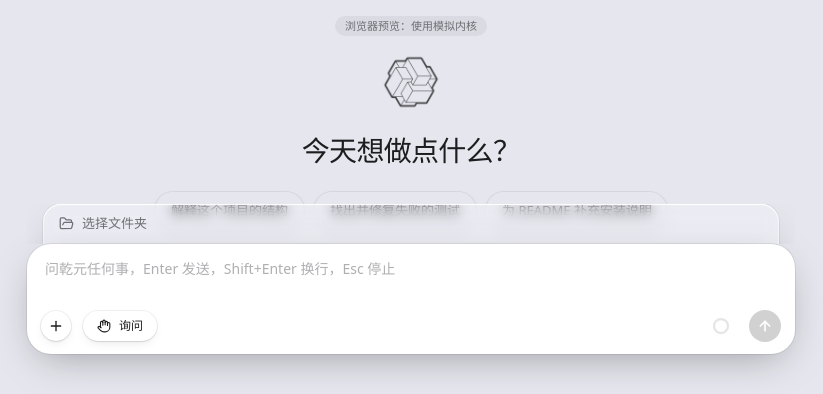
Test: 对话区（mock 事件流） › 输入框里按 Esc 停止；停止进行中按钮禁用，不重复发 abort
In the text box named "输入消息": (411, 280) [41,258,781,302], type "长任务"
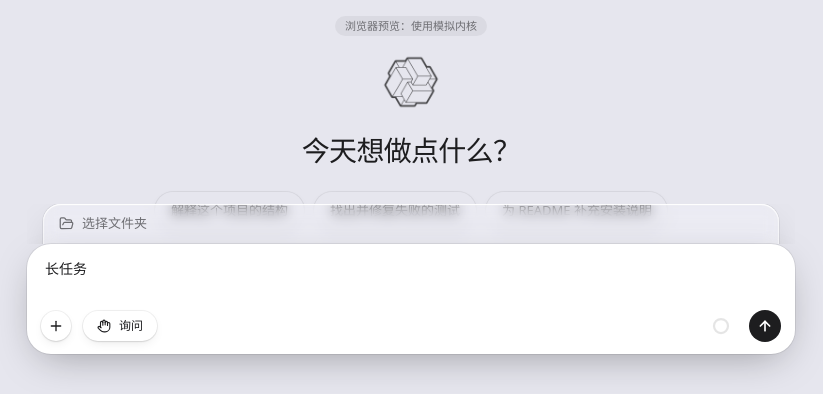
Press Enter in the text box named "输入消息", box [41,258,781,302]
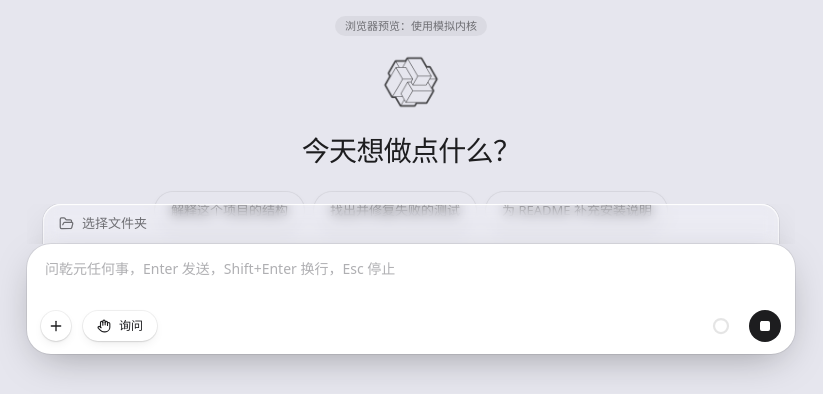
Expected: the button named "停止" is shown, [749,310,781,342]
Press Escape in the text box named "输入消息", box [41,258,781,302]
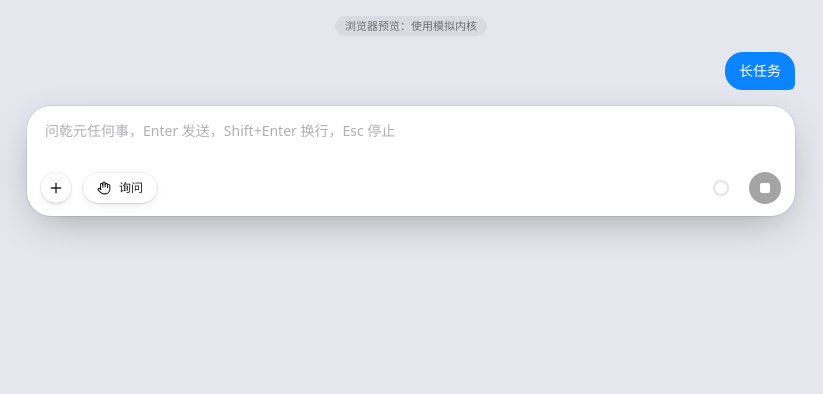
Expected: the button named "正在停止" is disabled, [749,172,781,204]
Press Escape in the text box named "输入消息", box [41,120,781,164]
Click the button named "正在停止": (765, 188) [749,172,781,204]
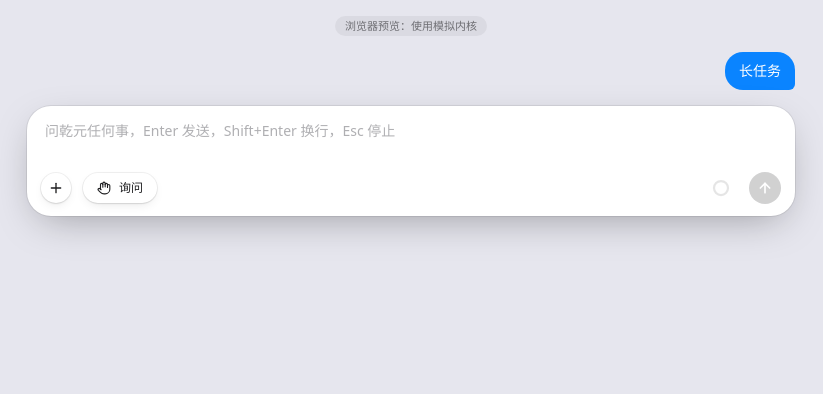
Expected: the button named "发送" is shown, [749,172,781,204]
